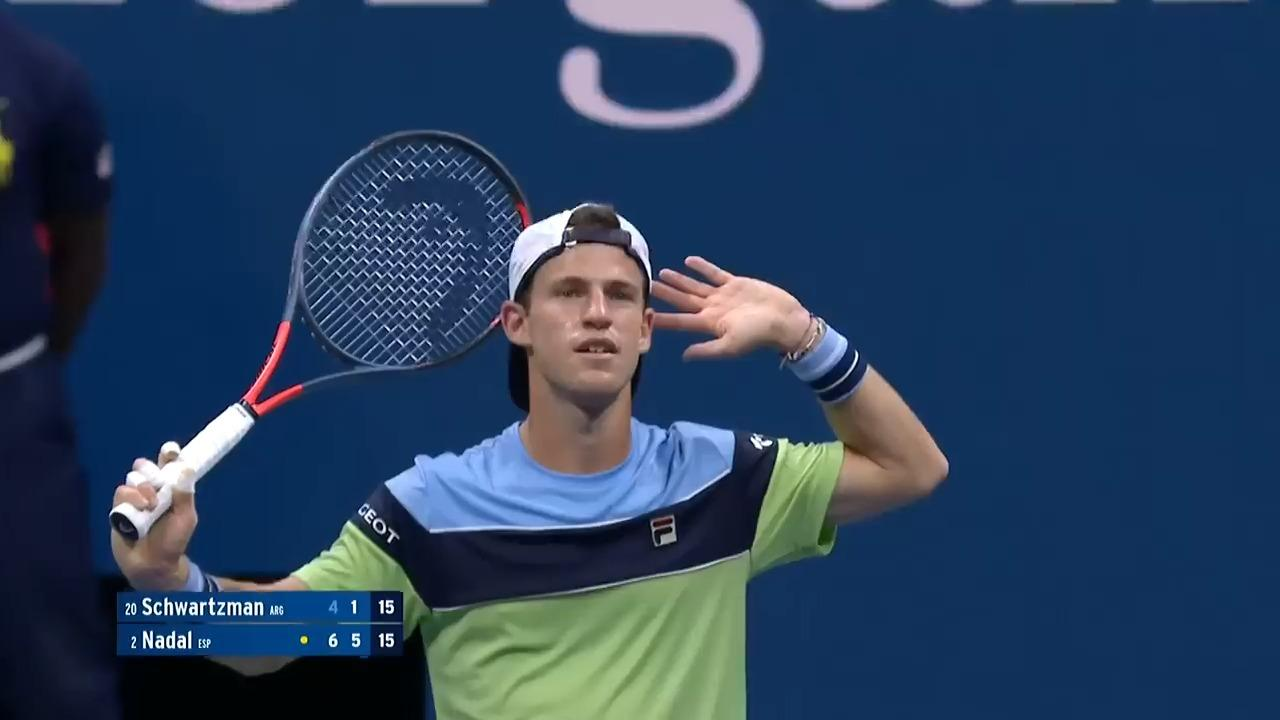tennis racket: (105, 129, 533, 547)
